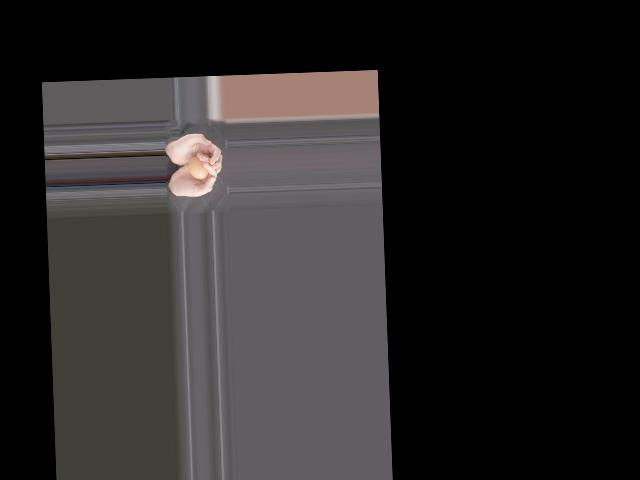egg: (187, 154, 208, 179)
